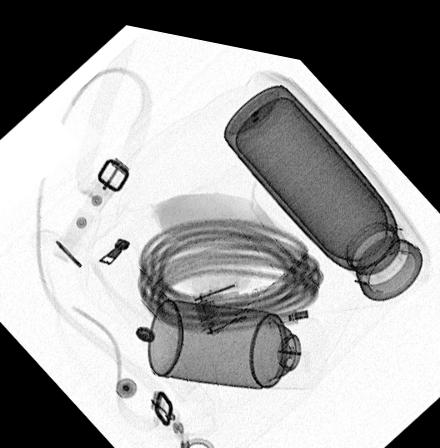Sprayer: (144, 290, 331, 380)
